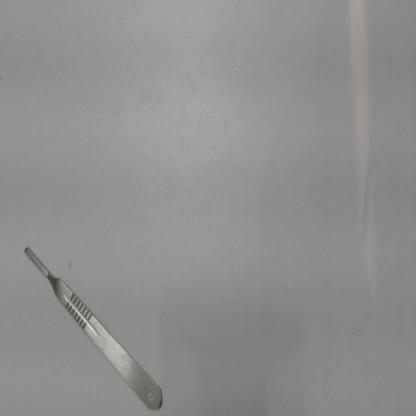No.4 BP Handle: (20, 240, 167, 412)
